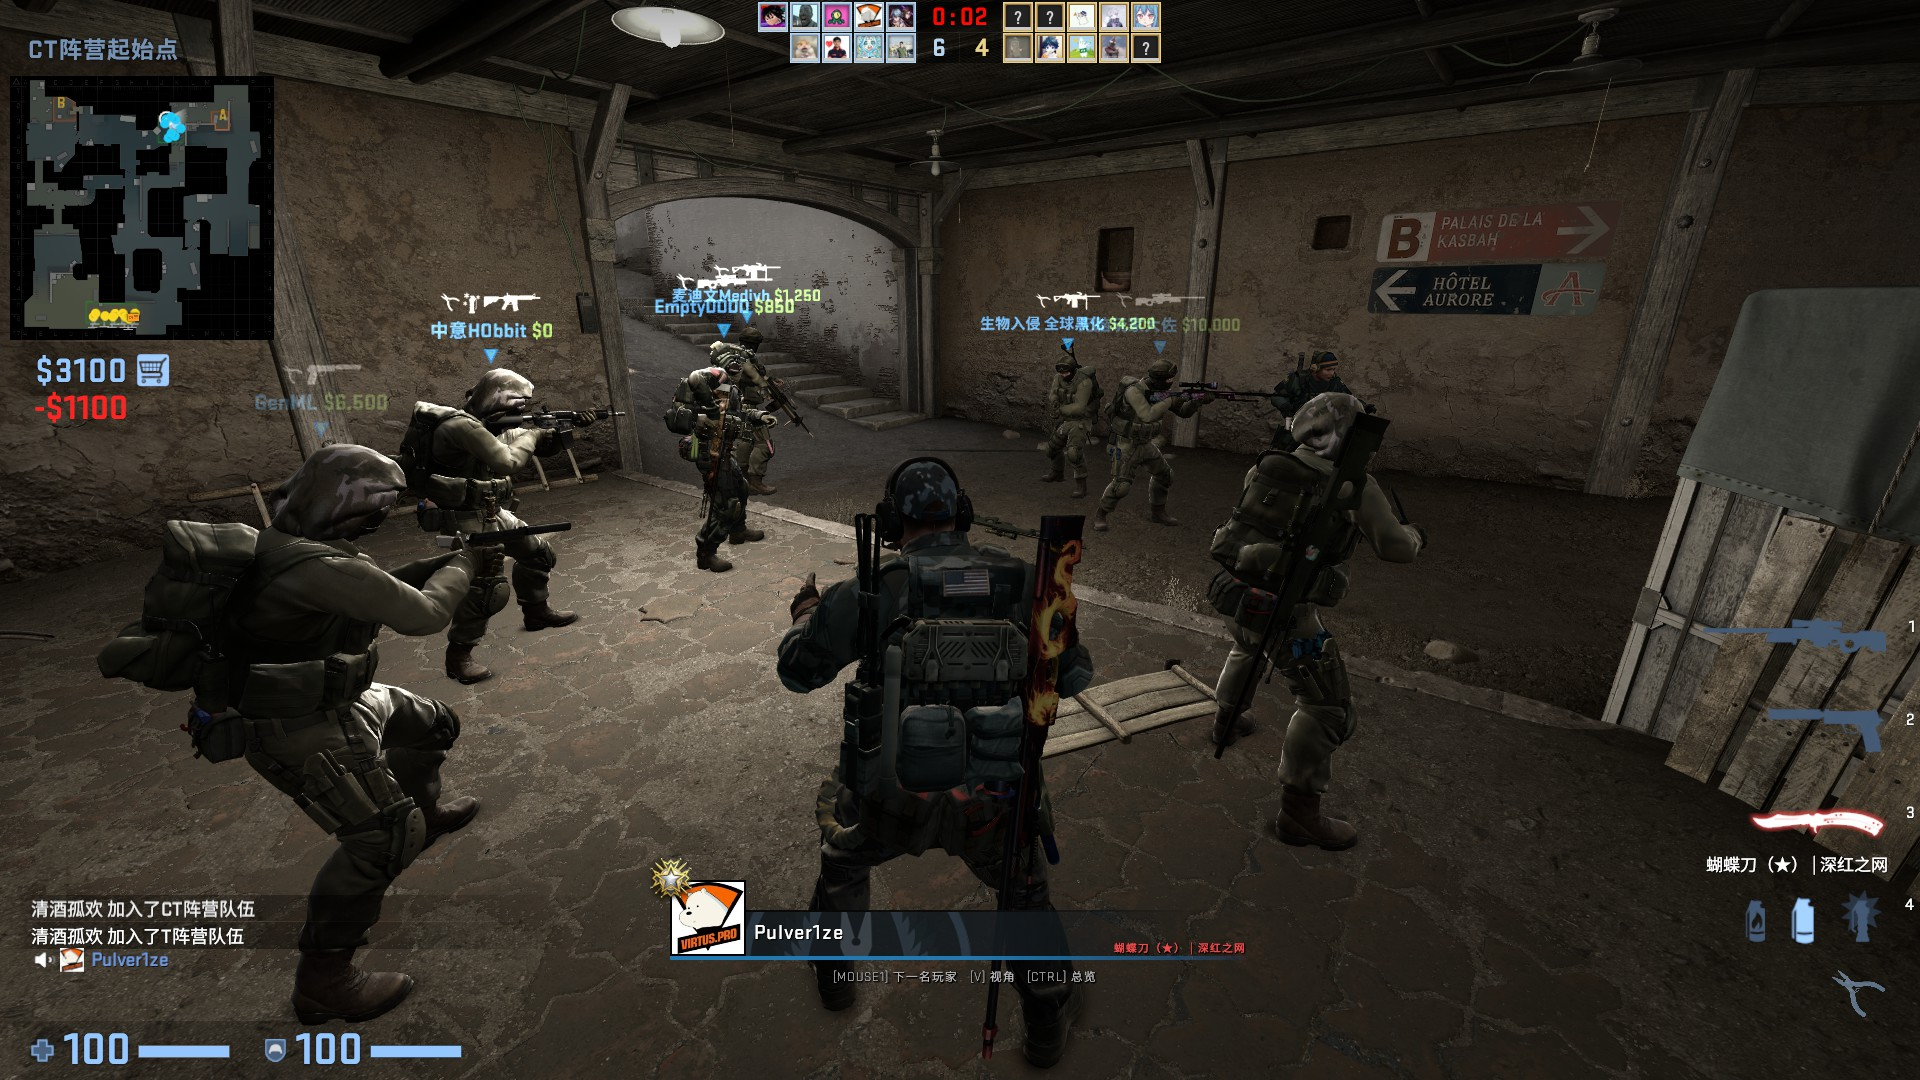head: (282, 442, 403, 538), (879, 454, 979, 556), (1291, 390, 1372, 458), (466, 367, 537, 420), (709, 341, 751, 377), (1308, 348, 1340, 382), (1148, 358, 1179, 390), (737, 325, 764, 352), (1054, 354, 1075, 379)
